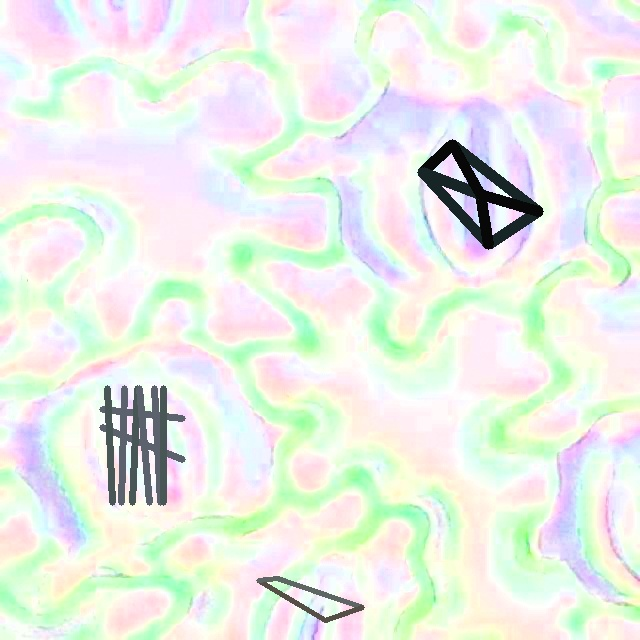close: (99, 386, 185, 504)
open: (417, 140, 542, 248), (257, 576, 364, 621)
